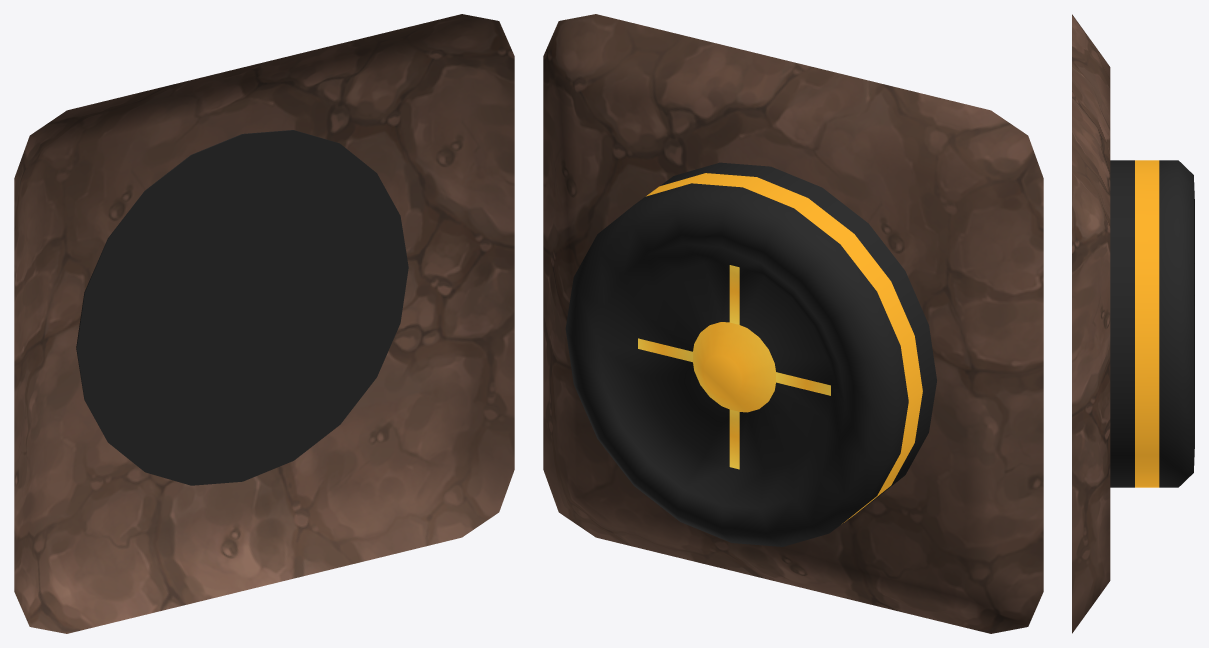
File: cell_mine.glb
3 renders of one model, left to right at view 1: azimuth 30°, elevation 25°; view 2: azimuth 150°, elevation 25°; view 3: azimuth 270°, elevation 25°, orthographic. The views are drawn at different scales.
Parts seen in each view (by area): view 1: cell_revealed.015, Cylinder.001; view 2: cell_revealed.015, Cylinder.001; view 3: Cylinder.001, cell_revealed.015.
Part boxes in pixels (x1,y1,x2,y2): cell_revealed.015: (14, 14, 514, 633); Cylinder.001: (76, 130, 408, 485); cell_revealed.015: (543, 14, 1043, 633); Cylinder.001: (565, 162, 936, 546); Cylinder.001: (1110, 160, 1194, 487); cell_revealed.015: (1072, 14, 1110, 633).
Size of what is drawn, in the model's own units: 1 by 1 by 0.2473.
Materials: 3 (3 with a texture image).
